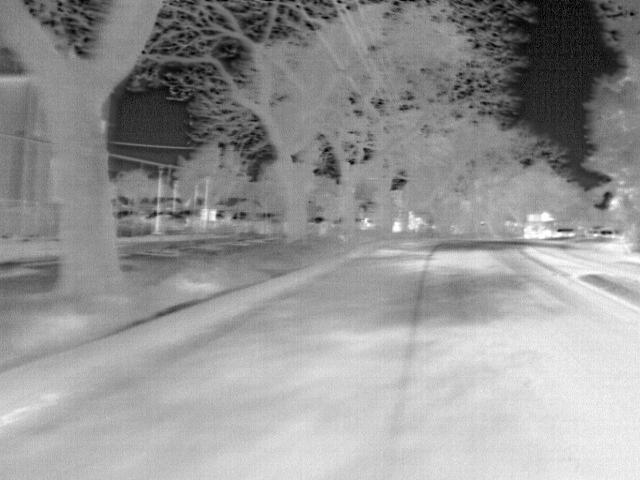car: (524, 220, 557, 241), (556, 227, 575, 240)
person: (407, 209, 419, 233), (360, 214, 373, 230), (391, 220, 403, 234), (415, 214, 428, 225)
